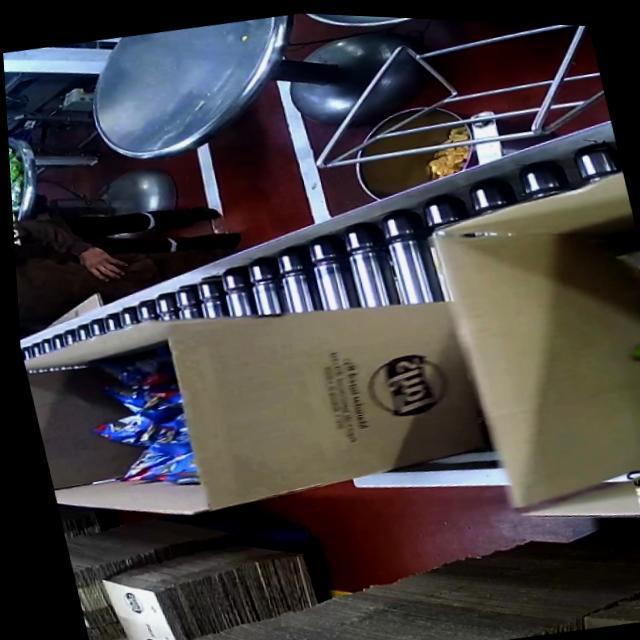PAPRIKA: (74, 343, 202, 494)
